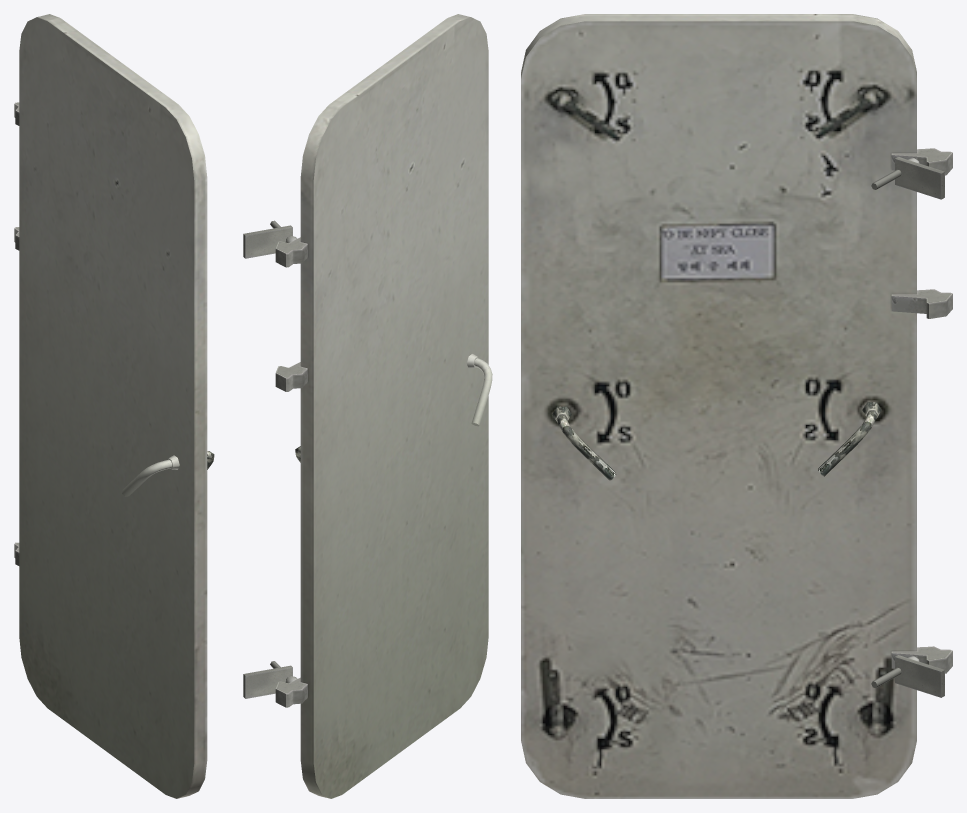
Rendered from ETS_Door_171128.FBX.
3 renders of one model, left to right at view 1: azimuth 30°, elevation 25°; view 2: azimuth 150°, elevation 25°; view 3: azimuth 270°, elevation 25°, orthographic. The views are drawn at different scales.
Parts seen in each view (by area): view 1: Door_open; view 2: Door_open; view 3: Door_open.
Boxes of the visible parts, x1,y1,x2,y2 form: Door_open: (14,14,214,798); Door_open: (243,14,492,798); Door_open: (521,14,952,798).
Size of the model in its own units: 0.2491 by 1.76 by 0.8878.
